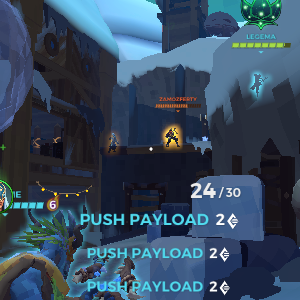model: (161, 123, 182, 152), (104, 130, 122, 156)
